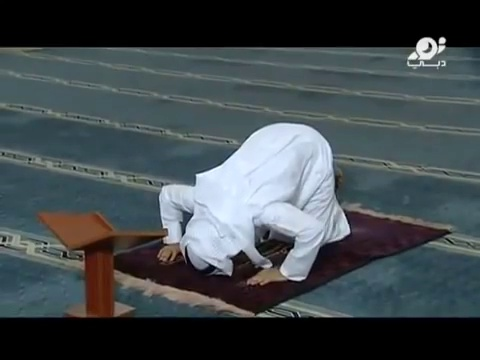sujud: (156, 121, 352, 287)
